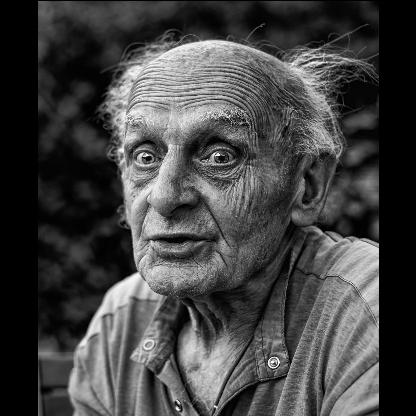Male: (122, 40, 334, 288)
